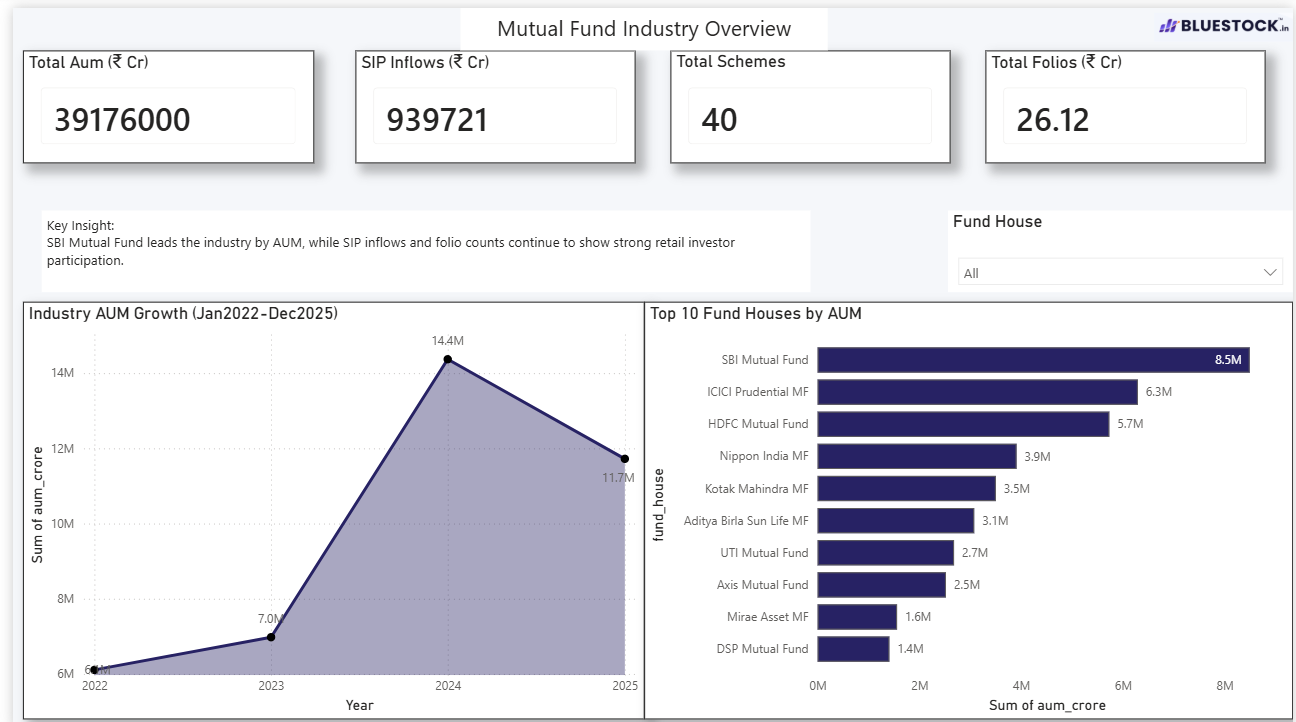

The page's visual inventory and layout, read from the dashboard file:
{"tool":"powerbi","page":{"name":"Industry Overview","canvas":[1280,720],"ordinal":0},"visuals":[{"type":"cardVisual","title":"Total Schemes","fields":{"Data":["clean_fund_master.Total Schemes"]},"box":[657.5,42.5,280,112.5],"z":0},{"type":"cardVisual","title":"Total Folios (₹ Cr)","fields":{"Data":["clean_industry_folio_count.Total Folios"]},"box":[972.5,42.5,280,112.5],"z":1000},{"type":"cardVisual","title":"SIP Inflows (₹ Cr)","fields":{"Data":["clean_monthly_sip_inflows.Total SIP Inflow"]},"box":[342.5,42.5,280,112.5],"z":2000},{"type":"lineChart","title":"Industry AUM Growth (Jan2022-Dec2025)","fields":{"Category":["clean_aum_by_fund_house.date.Variation.Date Hierarchy.Year","clean_aum_by_fund_house.date.Variation.Date Hierarchy.Quarter","clean_aum_by_fund_house.date.Variation.Date Hierarchy.Month","clean_aum_by_fund_house.date.Variation.Date Hierarchy.Day"],"Y":["Sum(clean_aum_by_fund_house.aum_crore)"]},"box":[10,293.8,621.2,417.5],"z":3000},{"type":"clusteredBarChart","title":"Top 10 Fund Houses by AUM","fields":{"Y":["Sum(clean_aum_by_fund_house.aum_crore)"],"Category":["clean_aum_by_fund_house.fund_house"]},"box":[631.2,293.8,648.8,417.5],"z":4000},{"type":"slicer","title":"Fund House","fields":{"Values":["clean_aum_by_fund_house.fund_house"]},"box":[935,202.5,345,81.2],"z":5000},{"type":"textbox","box":[447.5,0,367.5,42.5],"z":6000},{"type":"textbox","box":[28.8,202.5,768.8,81.2],"z":7000},{"type":"cardVisual","title":"Total Aum (₹ Cr)","fields":{"Data":["clean_aum_by_fund_house.Total AUM"]},"box":[10,42.5,291.2,112.5],"z":8000},{"type":"image","box":[1141.1,0,138.9,38.9],"z":9000}]}

Visuals, with their boxes in screenshot pixels (x1, y1, x2, y2), scaled from the page's 1280x720 canvas onto the 1296x722 screenshot:
"Total Schemes" cardVisual: 666/43/949/155
"Total Folios (₹ Cr)" cardVisual: 985/43/1268/155
"SIP Inflows (₹ Cr)" cardVisual: 347/43/630/155
"Industry AUM Growth (Jan2022-Dec2025)" lineChart: 10/295/639/713
"Top 10 Fund Houses by AUM" clusteredBarChart: 639/295/1295/713
"Fund House" slicer: 947/203/1295/284
textbox: 453/0/825/43
textbox: 29/203/808/284
"Total Aum (₹ Cr)" cardVisual: 10/43/305/155
image: 1155/0/1295/39
